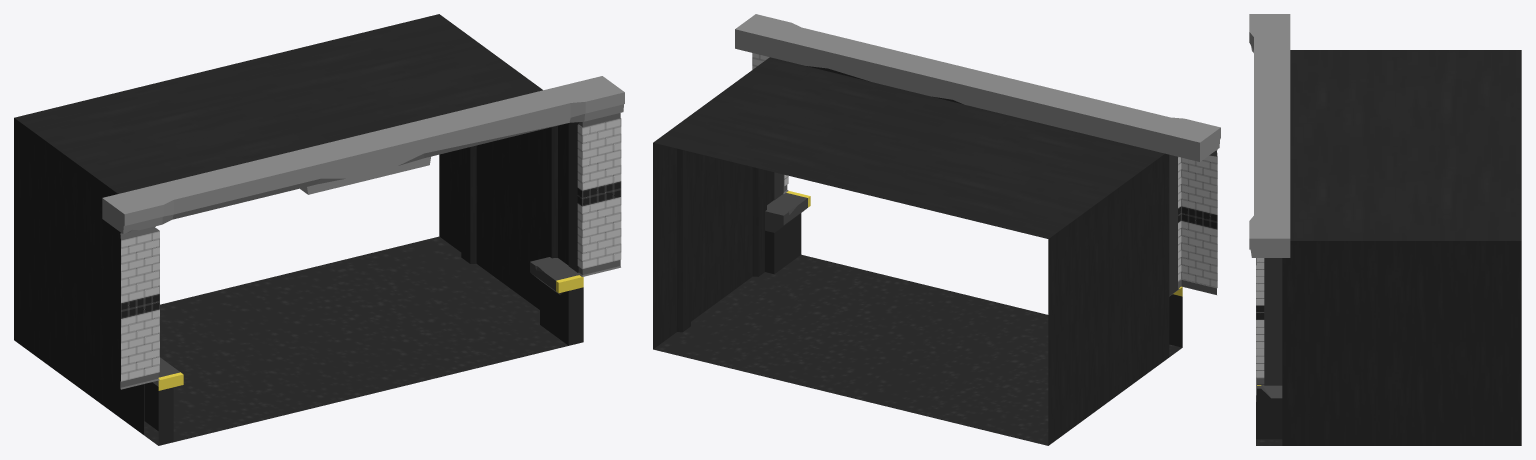
Rendered from SW_ENV_RailTunnel_EntranceDouble.fbx.
3 renders of one model, left to right at view 1: azimuth 30°, elevation 25°; view 2: azimuth 150°, elevation 25°; view 3: azimuth 270°, elevation 25°, orthographic. The views are drawn at different scales.
Visible parts, largest first — view 1: SW_ENV_RailTunnel_EntranceDouble; view 2: SW_ENV_RailTunnel_EntranceDouble; view 3: SW_ENV_RailTunnel_EntranceDouble.
Boxes of the visible parts, bbox=[...] form: SW_ENV_RailTunnel_EntranceDouble: bbox=[14, 14, 624, 445]; SW_ENV_RailTunnel_EntranceDouble: bbox=[653, 14, 1220, 445]; SW_ENV_RailTunnel_EntranceDouble: bbox=[1249, 14, 1521, 445].
Size of the model in its own units: 1000 by 465 by 513.
